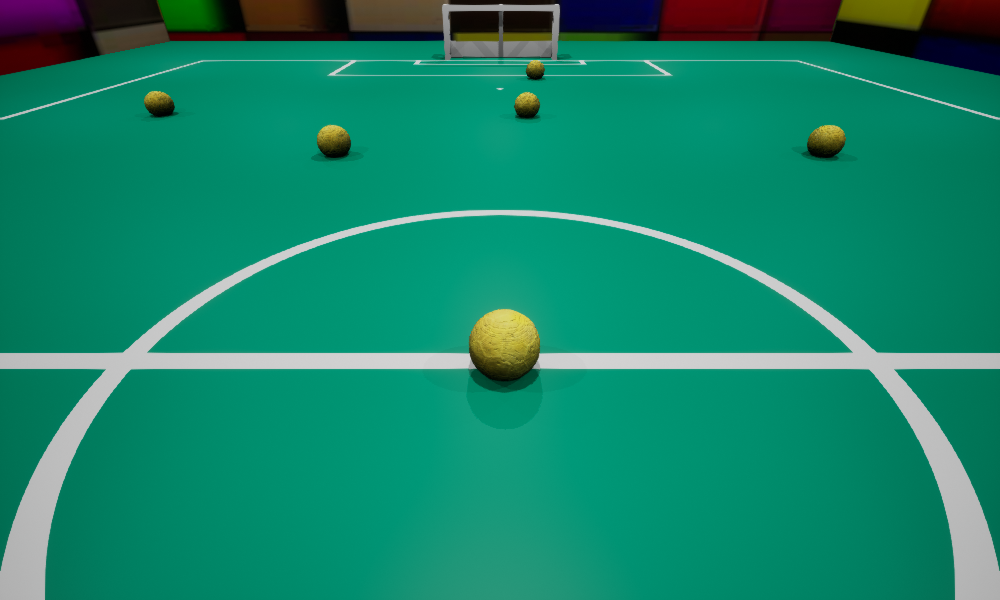b: (469, 309, 539, 380), (807, 125, 845, 156), (317, 125, 350, 156), (144, 91, 174, 115), (514, 92, 539, 117), (526, 60, 544, 78)
g: (442, 4, 559, 59)
